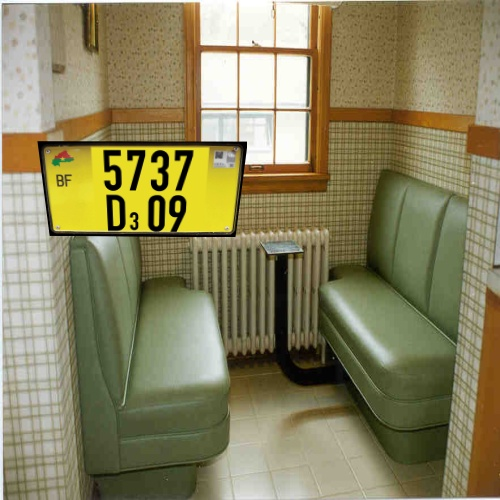plate: (32, 128, 255, 250)
